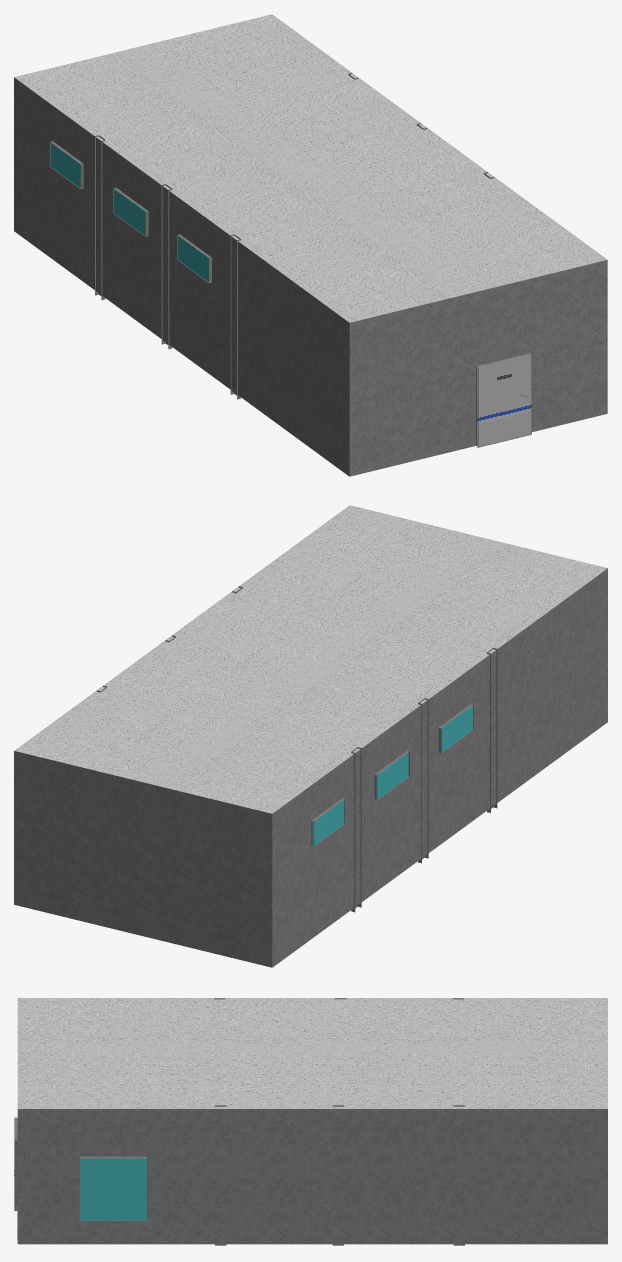
The model's file is armor-house-inside.glb.
3 views of the same model, one above another, from view 1: azimuth 30°, elevation 25°; view 2: azimuth 150°, elevation 25°; view 3: azimuth 270°, elevation 25° (orthographic). The views are drawn at different scales.
Visible parts, largest first — view 1: walls, door, windows; view 2: walls, windows; view 3: walls, windows.
Part boxes in pixels (left/top/right/bottom): walls: left=14, top=14, right=607, bottom=476; door: left=477, top=353, right=531, bottom=447; windows: left=49, top=141, right=208, bottom=282; walls: left=14, top=505, right=607, bottom=967; windows: left=312, top=705, right=472, bottom=846; walls: left=14, top=998, right=607, bottom=1245; windows: left=80, top=1158, right=148, bottom=1220.
Size of the model in its own units: 1.62 by 0.9252 by 3.55.
Materials: 4 (4 with a texture image).
